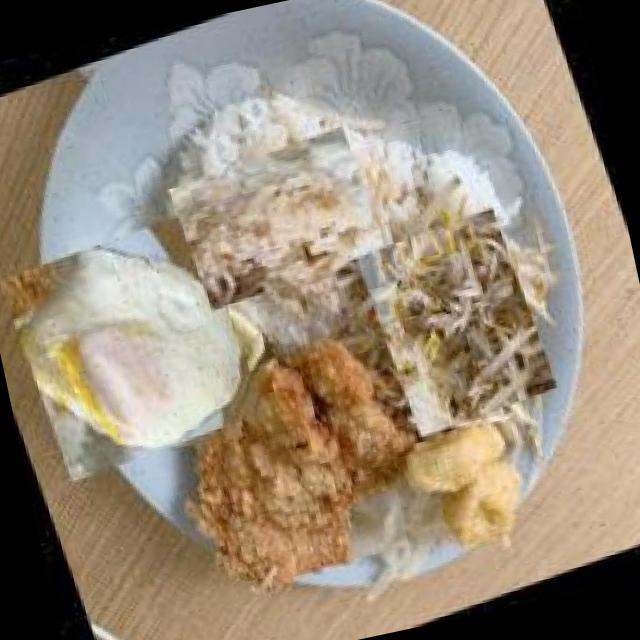chicken_nuggets: (392, 407, 542, 568)
fried_chicken: (139, 320, 434, 619)
fried_eggs: (0, 205, 272, 492)
mung_bean_sprouts: (350, 200, 564, 444)
rice: (173, 112, 384, 323)
